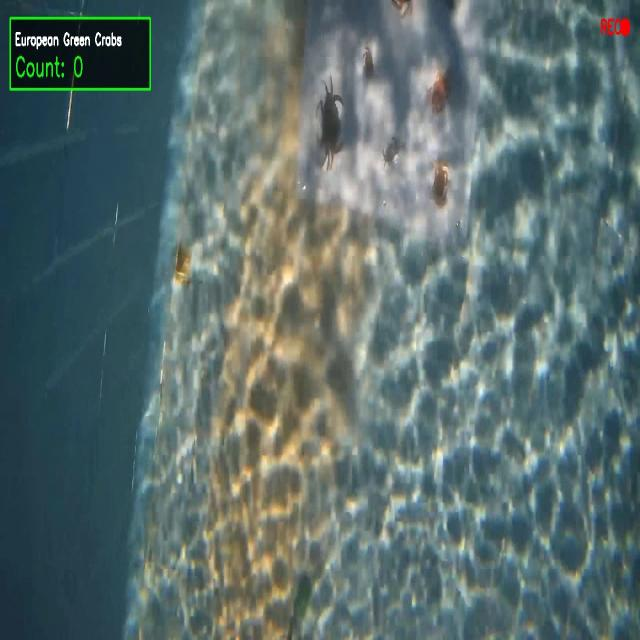European_Green_Crab: (317, 70, 348, 176), (377, 130, 406, 174)
